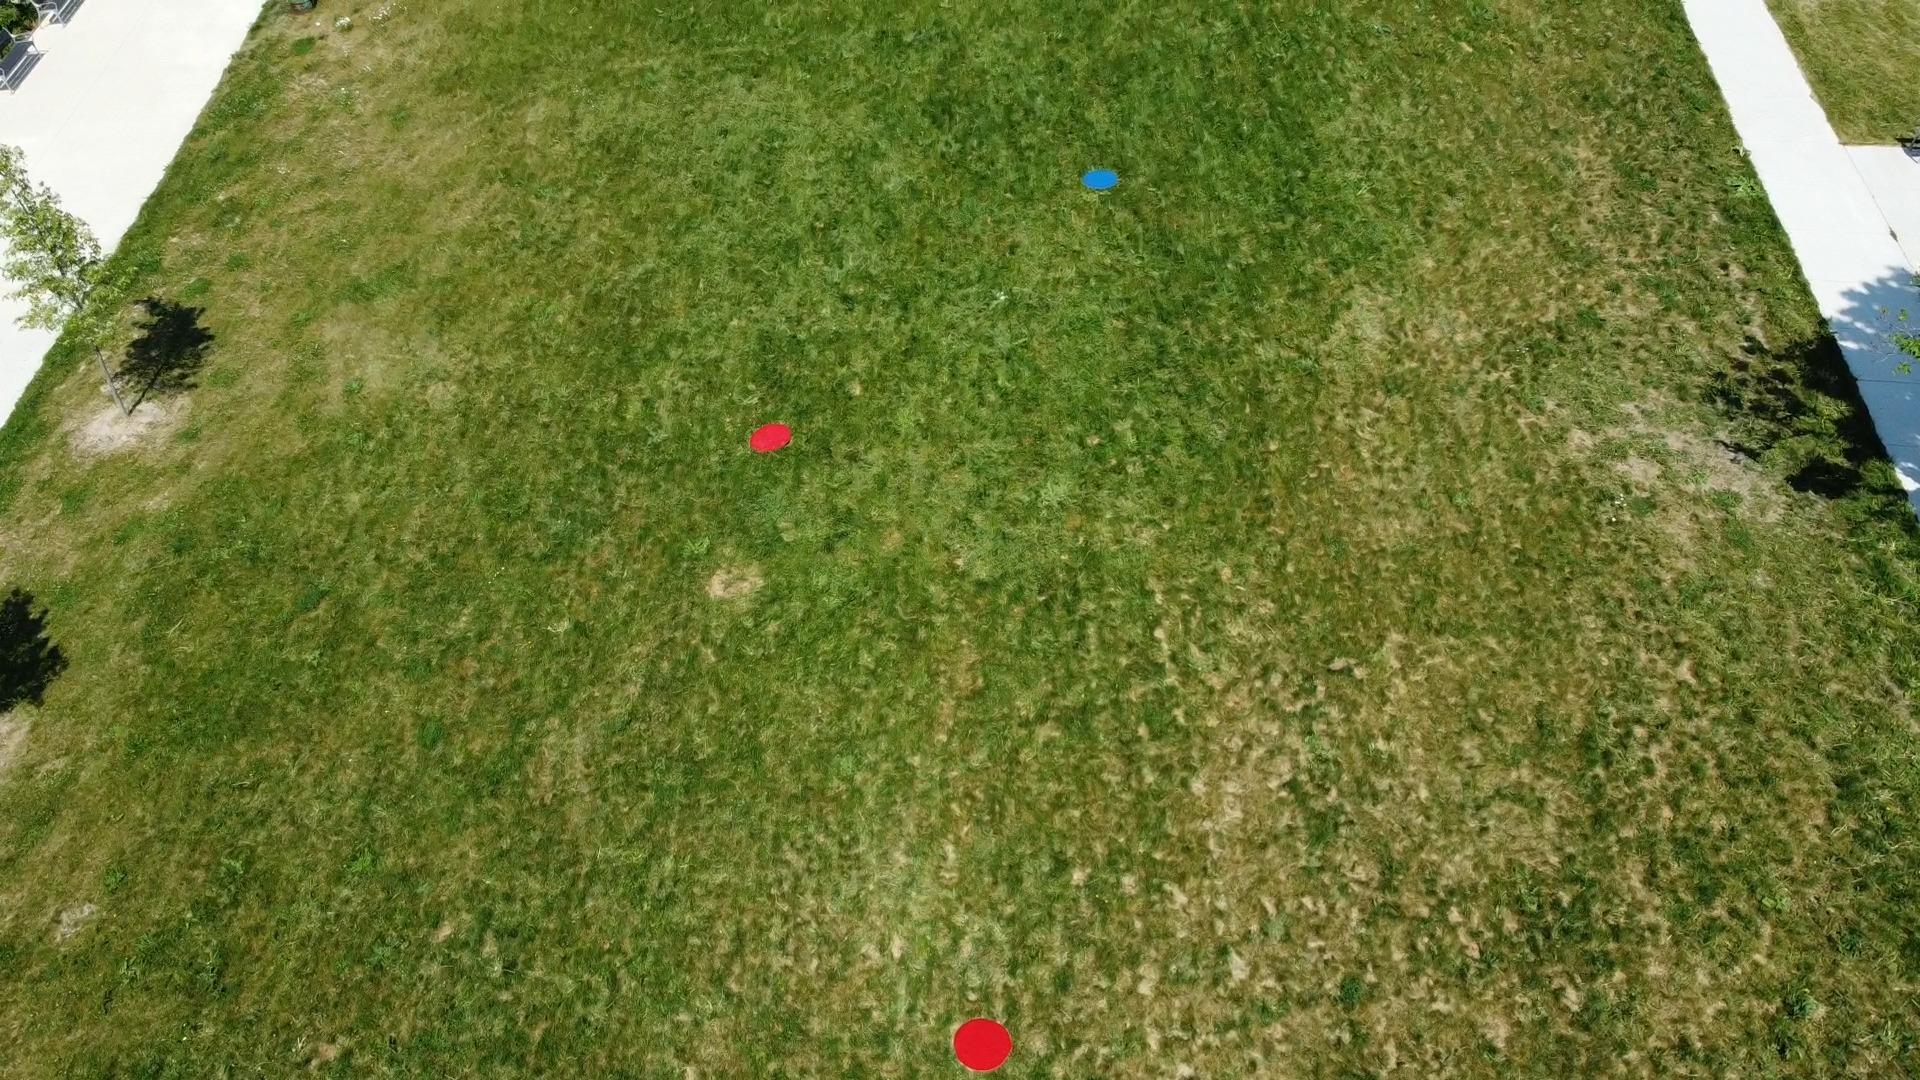Blue: (1079, 167, 1124, 194)
Red: (951, 1015, 1015, 1075), (748, 423, 794, 454)
